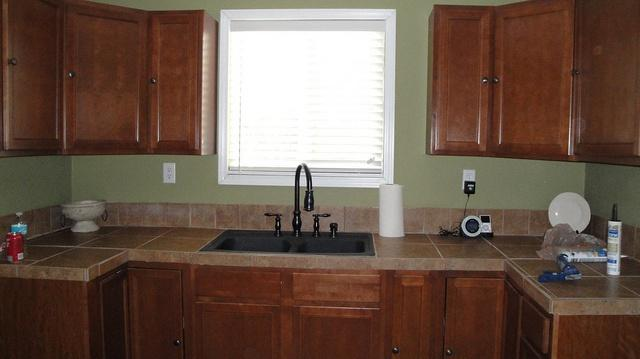Lemari: (425, 0, 639, 167), (0, 0, 217, 157)
